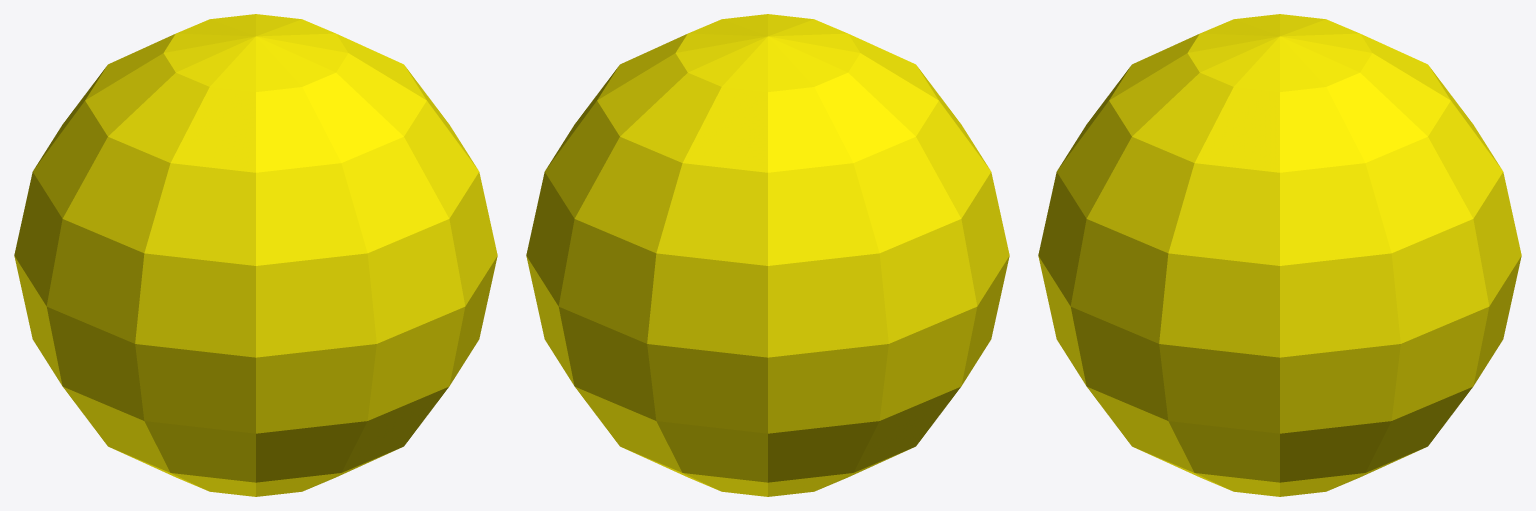
The model's file is dot.obj.
3 views of the same model, side by side, from view 1: azimuth 30°, elevation 25°; view 2: azimuth 150°, elevation 25°; view 3: azimuth 270°, elevation 25° (orthographic).
Visible parts, largest first — view 1: polySurface470 pacman1:Mesh; view 2: polySurface470 pacman1:Mesh; view 3: polySurface470 pacman1:Mesh.
Part boxes in pixels (left/top/right/bottom): polySurface470 pacman1:Mesh: left=14, top=14, right=497, bottom=496; polySurface470 pacman1:Mesh: left=526, top=14, right=1009, bottom=496; polySurface470 pacman1:Mesh: left=1038, top=14, right=1521, bottom=496.
Bounding box in the file's own units: 1.07 × 1.07 × 1.07.
Materials: 1 (1 with a texture image).
